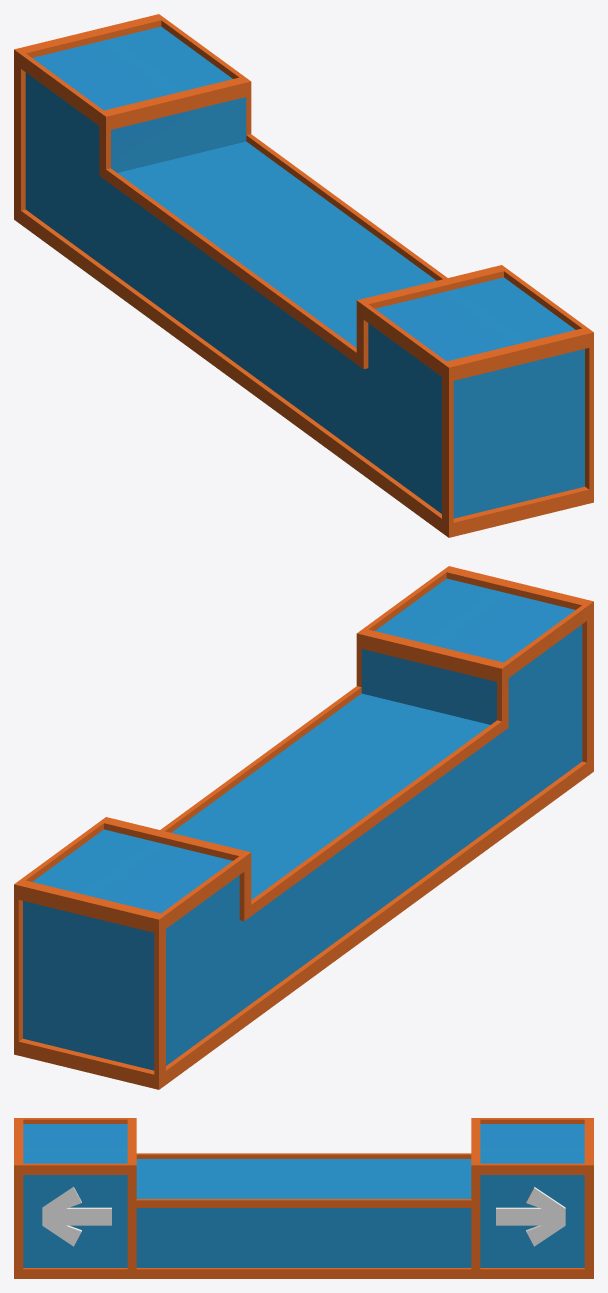
Rendered from buttons.fbx.
The picture shows the model from 3 angles, top to bottom: view 1: azimuth 30°, elevation 25°; view 2: azimuth 150°, elevation 25°; view 3: azimuth 270°, elevation 25°; orthographic projection. The views are drawn at different scales.
Parts seen in each view (by area): view 1: Cube; view 2: Cube; view 3: Cube.
Part boxes in pixels (x1,y1,x2,y2): Cube: (14, 14, 593, 537); Cube: (14, 566, 593, 1089); Cube: (14, 1118, 593, 1278).
Size of the model in its own units: 321 by 360 by 1667.
